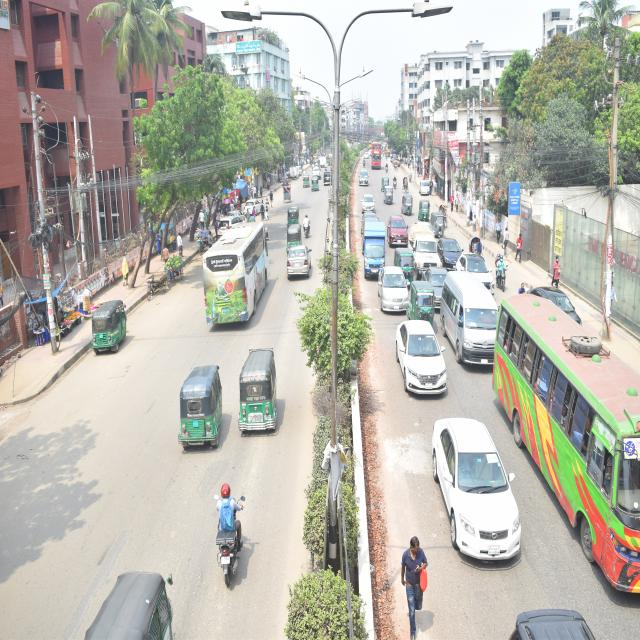bus: (496, 284, 640, 577), (203, 219, 275, 335)
car: (428, 410, 525, 572), (394, 318, 451, 403), (530, 274, 592, 322), (377, 266, 412, 314), (411, 225, 441, 275), (424, 264, 451, 312), (386, 211, 410, 253), (439, 233, 465, 270), (361, 189, 380, 216)
microbus: (440, 270, 502, 372)
motorbike: (205, 481, 253, 588), (302, 217, 315, 241)
pickup-van: (362, 216, 387, 282)
